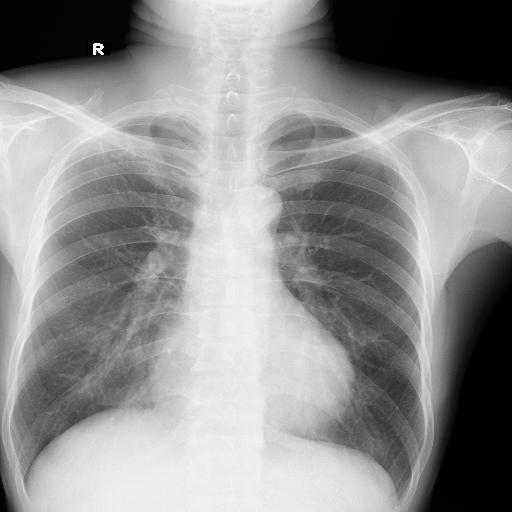Pleural thickening: (70, 106, 152, 118)
Pulmonary fibrosis: (52, 109, 128, 169)
